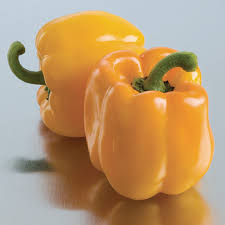bell pepper: (81, 36, 220, 214), (9, 10, 149, 159)
